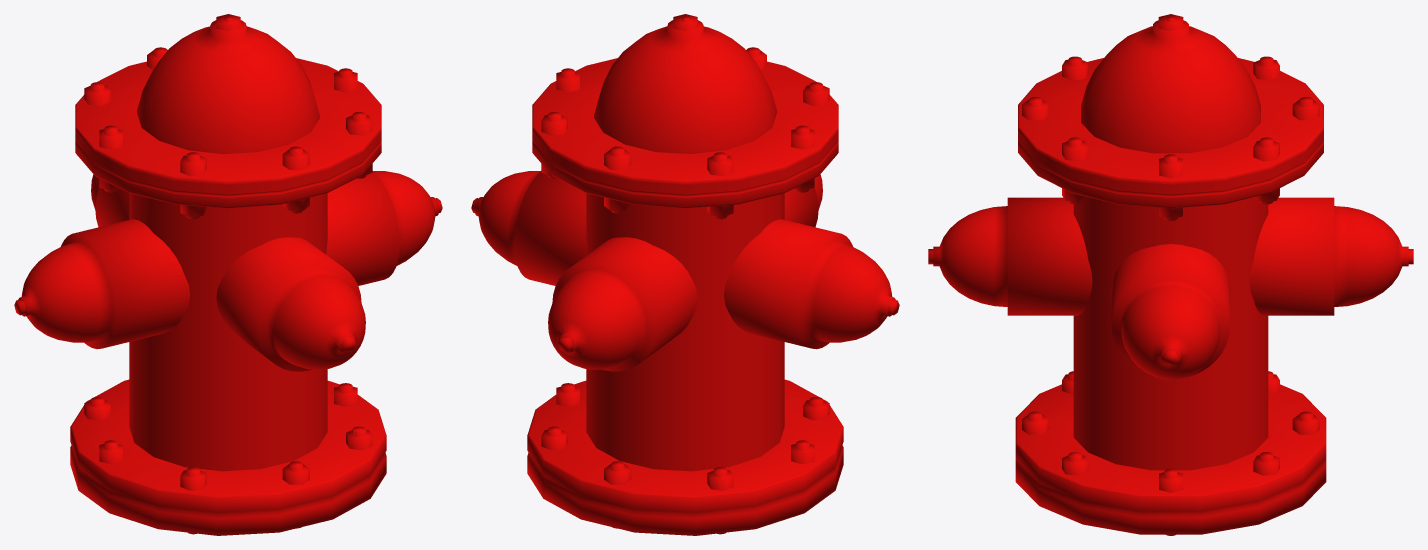
The model's file is Hydrant.fbx.
The picture shows the model from 3 angles, left to right: view 1: azimuth 30°, elevation 25°; view 2: azimuth 150°, elevation 25°; view 3: azimuth 270°, elevation 25°; orthographic projection.
Parts seen in each view (by area): view 1: Hydrant.002; view 2: Hydrant.002; view 3: Hydrant.002.
Boxes of the visible parts, x1,y1,x2,y2 form: Hydrant.002: (14,14,442,535); Hydrant.002: (471,14,899,535); Hydrant.002: (928,14,1413,535).
Bounding box in the file's own units: 0.3568 × 0.379 × 0.3568.
